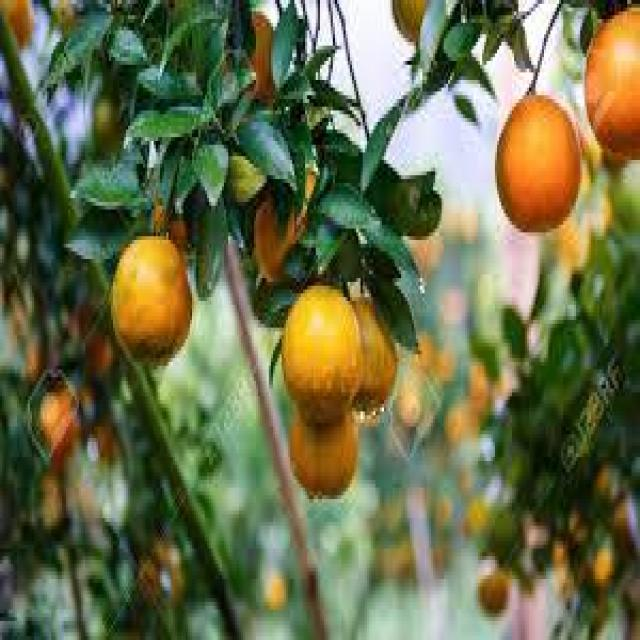fruit: (495, 91, 581, 232), (282, 279, 368, 413), (110, 233, 190, 364), (577, 5, 640, 169), (252, 168, 317, 282), (289, 407, 357, 498), (348, 297, 399, 416), (245, 11, 278, 104), (40, 387, 78, 466), (390, 0, 446, 53), (488, 505, 524, 562), (403, 184, 442, 236), (155, 540, 185, 604), (407, 228, 445, 277), (93, 94, 124, 152), (374, 536, 412, 583), (85, 328, 115, 380), (610, 492, 636, 552), (40, 474, 67, 530), (0, 1, 32, 48), (478, 569, 510, 615), (445, 401, 473, 448), (90, 419, 119, 464), (137, 553, 163, 603), (6, 296, 31, 348), (468, 359, 492, 413), (396, 383, 423, 429), (464, 492, 491, 538), (24, 334, 48, 384), (74, 299, 100, 345), (440, 286, 467, 330), (414, 332, 439, 374), (566, 506, 590, 548), (264, 570, 288, 612), (592, 542, 614, 586), (598, 138, 624, 174), (433, 491, 454, 532), (166, 214, 189, 251), (52, 1, 77, 34), (150, 200, 170, 237), (430, 538, 449, 576), (551, 538, 570, 574), (593, 463, 613, 497), (0, 276, 16, 315), (457, 461, 474, 497), (78, 384, 96, 415), (121, 619, 145, 640), (0, 160, 13, 194)
